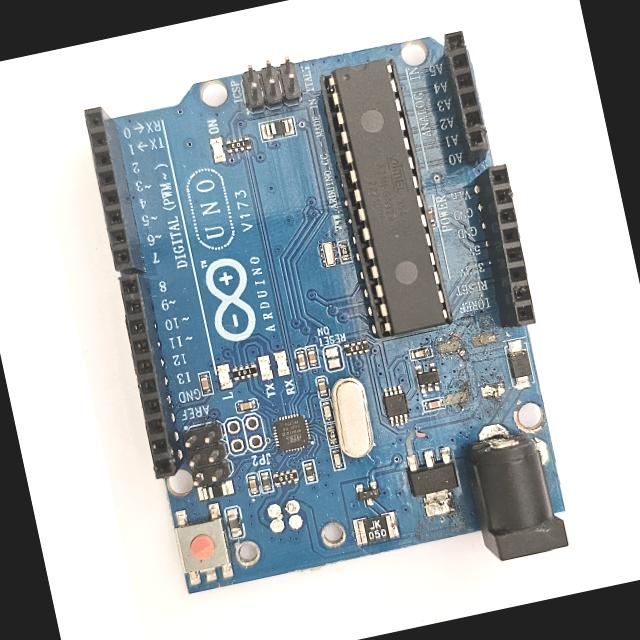missing_capacitors: (427, 323, 514, 419)
missing_usb: (233, 481, 355, 575)
